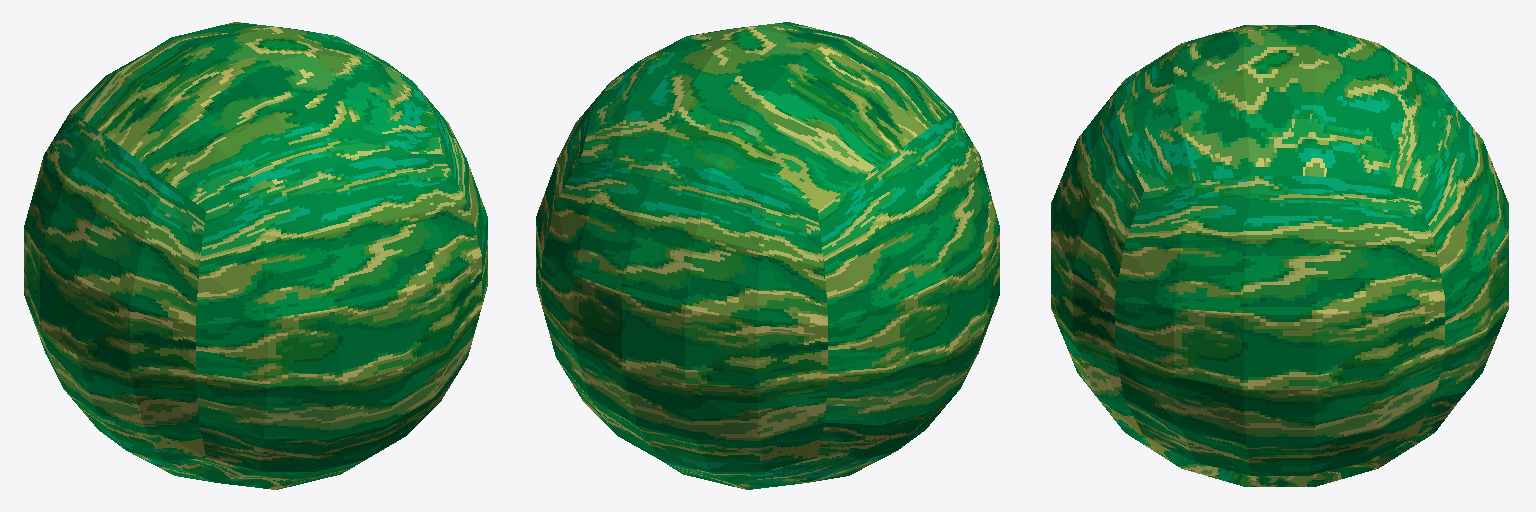
3 views of the same model, side by side, from view 1: azimuth 30°, elevation 25°; view 2: azimuth 150°, elevation 25°; view 3: azimuth 270°, elevation 25° (orthographic).
Parts seen in each view (by area): view 1: 300.018; view 2: 300.018; view 3: 300.018.
Boxes of the visible parts, box(x1,y1,x2,y2) form: 300.018: box(24, 22, 487, 489); 300.018: box(536, 22, 999, 489); 300.018: box(1051, 25, 1508, 486).
Size of the model in its own units: 3.36 by 3.36 by 3.36.
Materials: 1 (1 with a texture image).